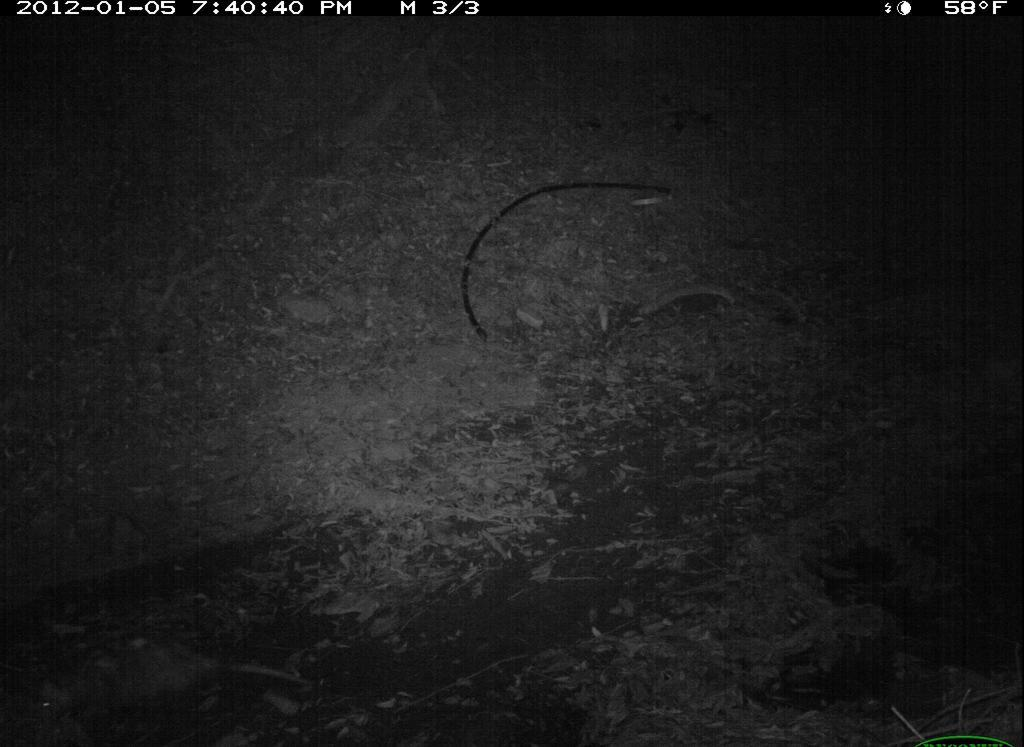opossum: (12, 639, 249, 744)
